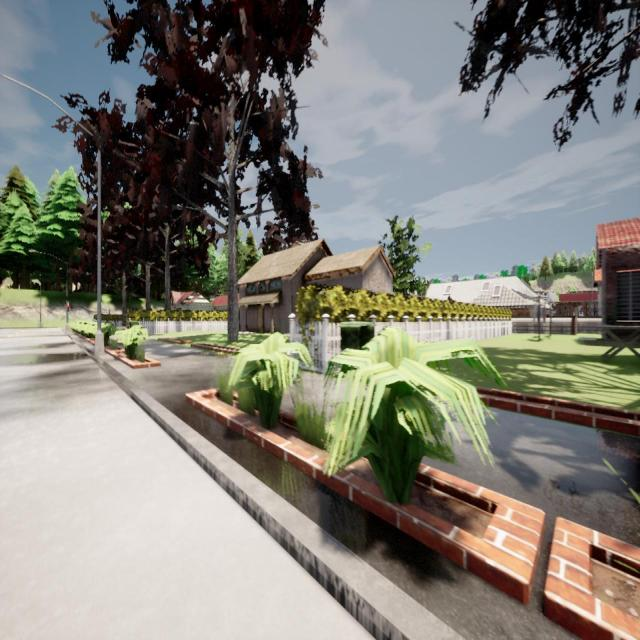traffic_light: (67, 304, 70, 311)
